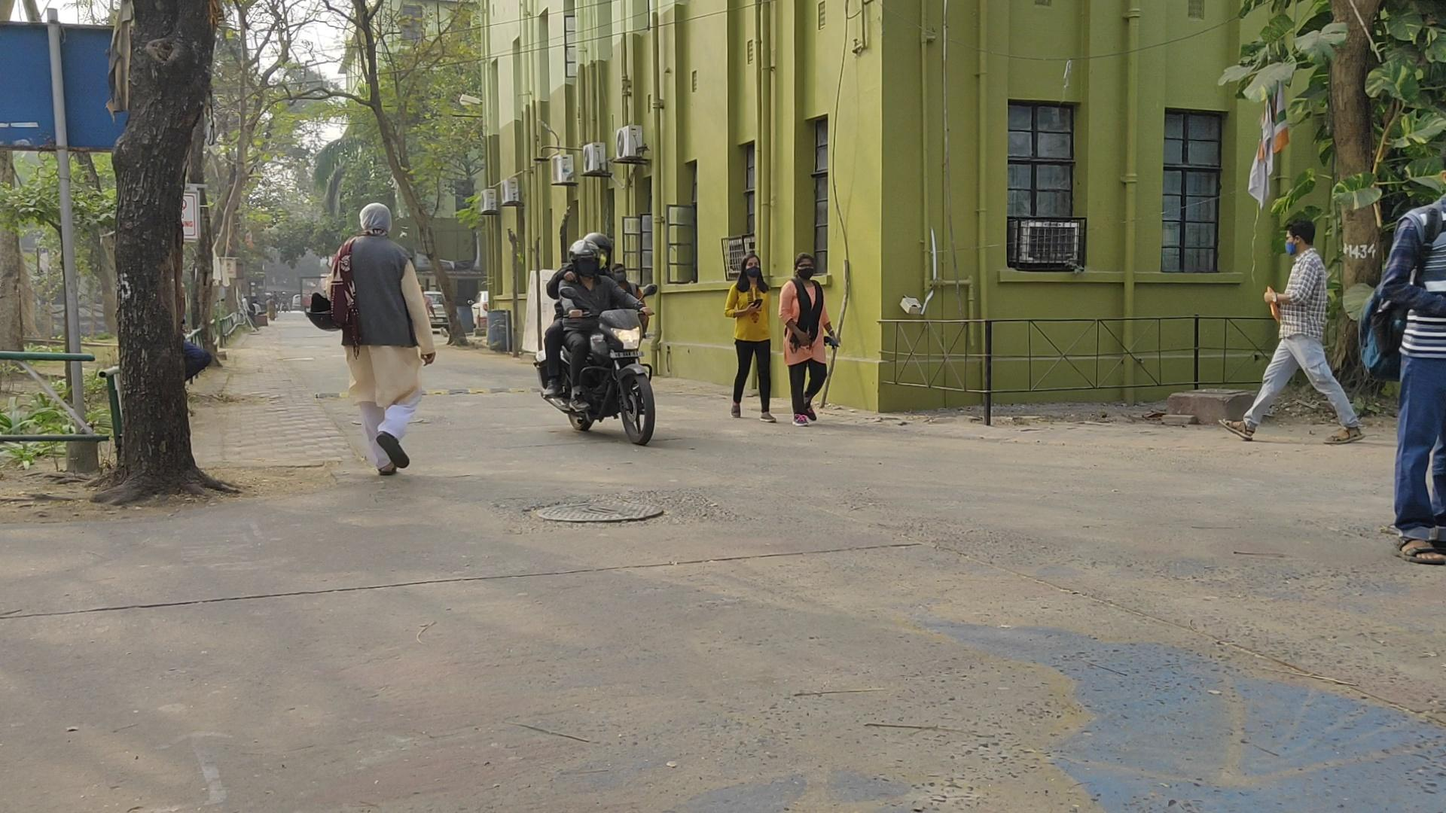bike: (533, 233, 656, 449)
